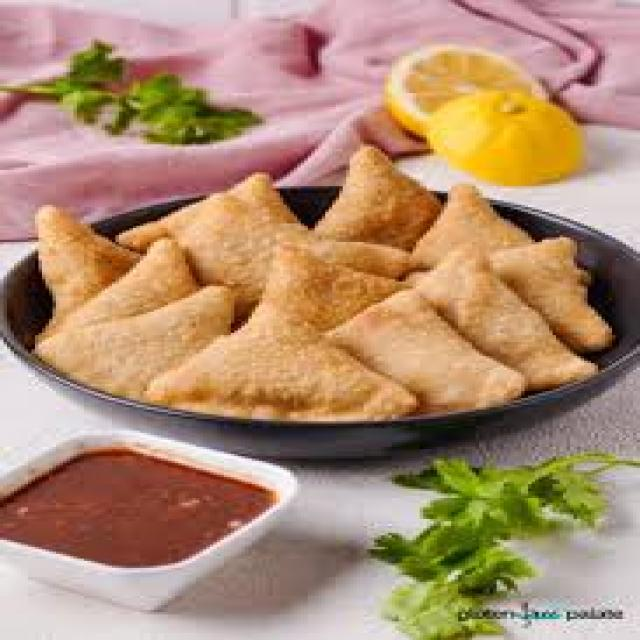SAMOSA: (150, 240, 413, 417), (42, 240, 231, 398), (329, 289, 525, 410), (115, 175, 294, 307), (420, 258, 595, 386), (493, 237, 609, 349), (318, 144, 437, 249), (38, 209, 136, 319), (416, 184, 532, 265)
